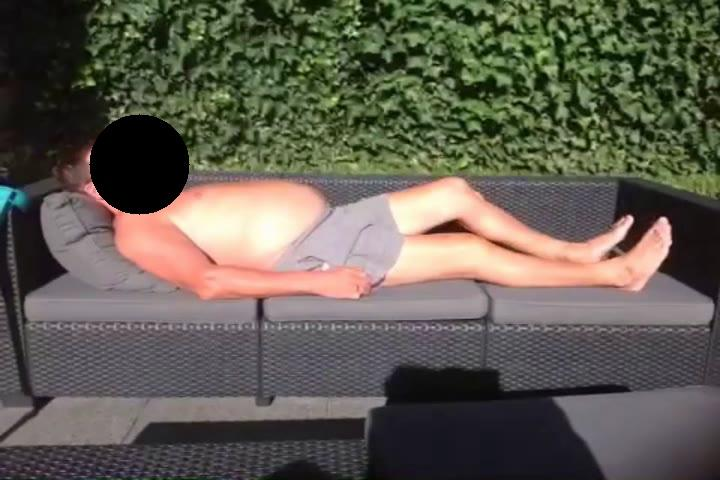lower_body: (310, 175, 675, 298)
